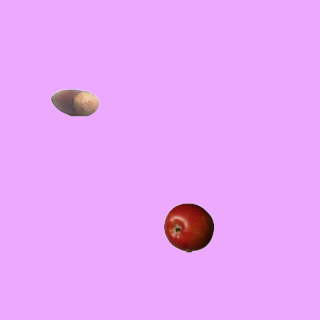Apple Braeburn: (163, 202, 213, 252)
Hazelnut: (49, 77, 99, 127)
